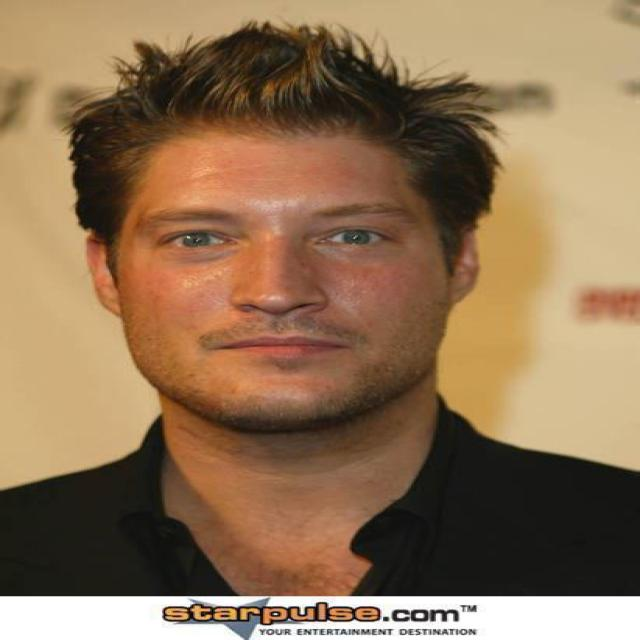0_rostro_limpio: (81, 97, 470, 434)
